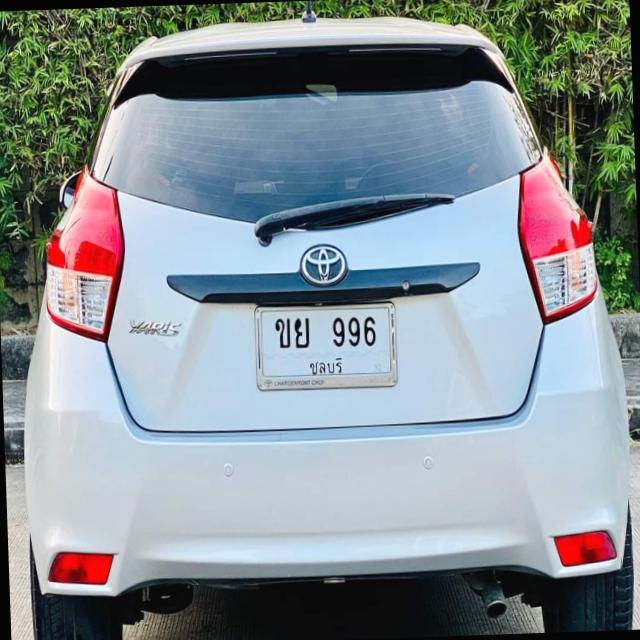license_plate: (251, 296, 400, 394)
